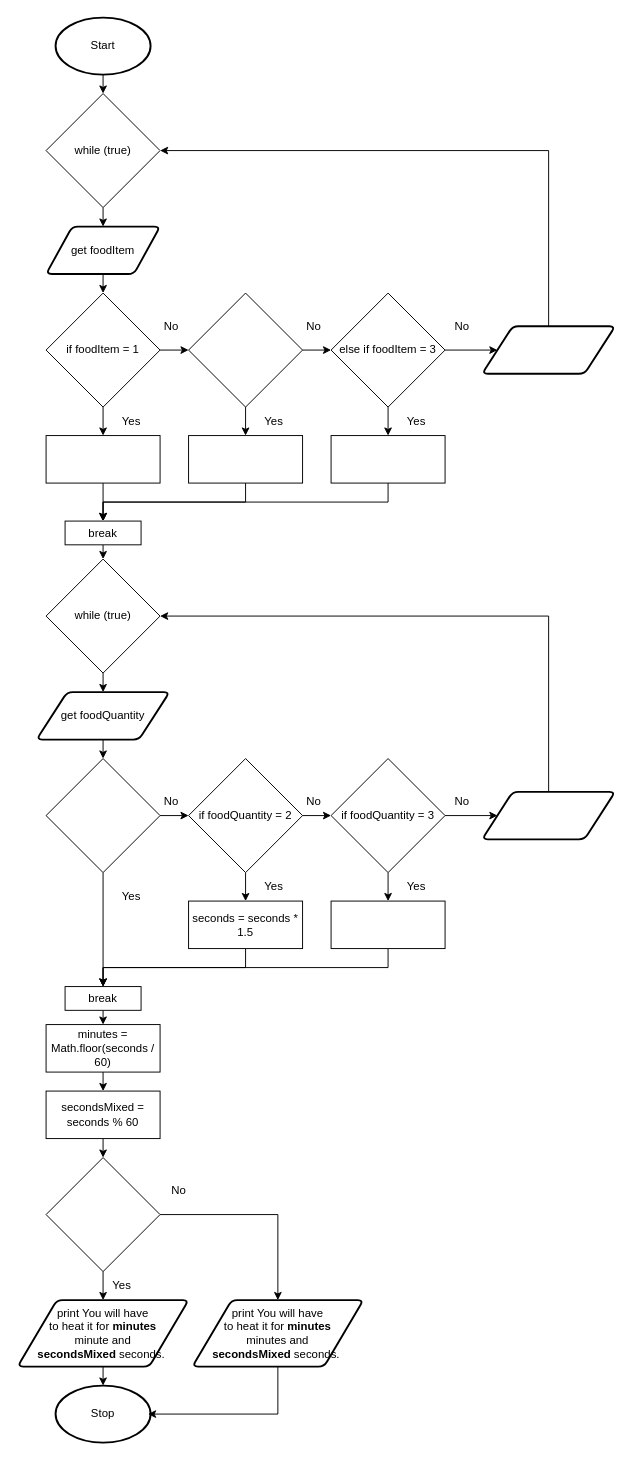
This 632x1459 diagram has some shape labels left out. Each missing label, with the centre of its shape:
else if foodItem = 2: the point at 245,349
if foodQuantity = 1: the point at 102,815
if minutes == 1: the point at 102,1214
let seconds = 105: the point at 245,459
let seconds = 45: the point at 387,459
let seconds = 60: the point at 102,459
print Invalid Input, Try Again Please.: the point at 548,349
print Invalid Input, Try Again with the numbers 1-3.: the point at 548,815
seconds = seconds * 2: the point at 387,924
